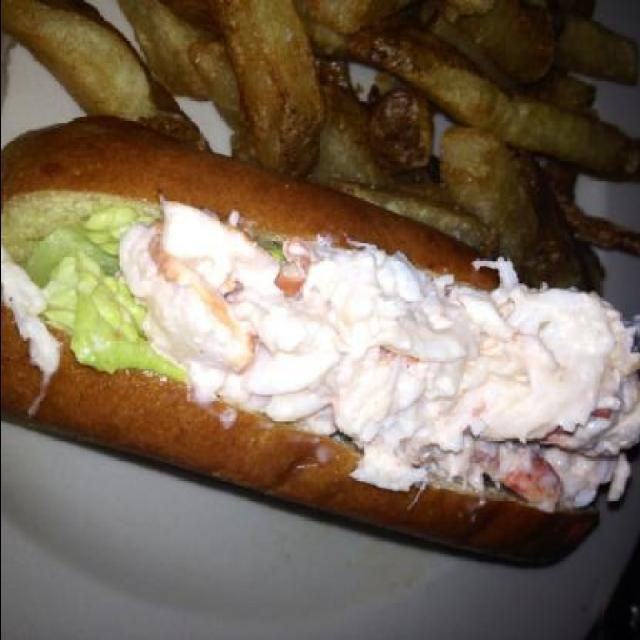Hot dog: (0, 108, 602, 570)
